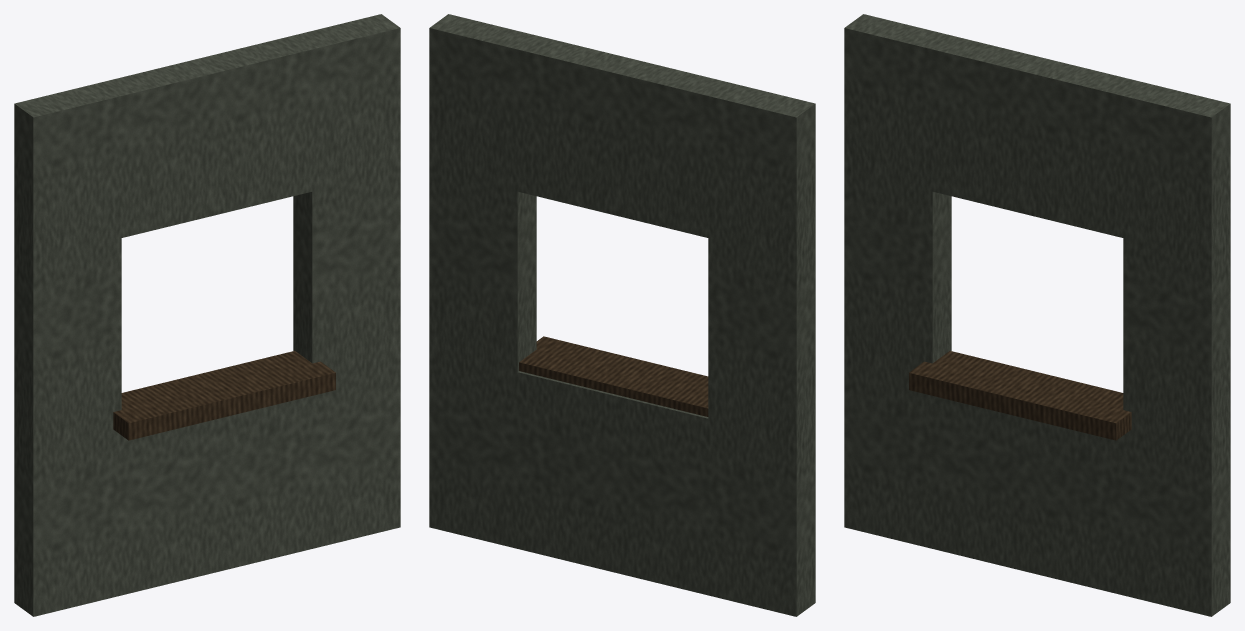
File: Wall_Window_2m.glb
3 views of the same model, side by side, from view 1: azimuth 30°, elevation 25°; view 2: azimuth 150°, elevation 25°; view 3: azimuth 330°, elevation 25° (orthographic).
Visible parts, largest first — view 1: Wall_Window_2m; view 2: Wall_Window_2m; view 3: Wall_Window_2m.
Part boxes in pixels (left/top/right/bottom): Wall_Window_2m: left=14, top=14, right=400, bottom=616; Wall_Window_2m: left=429, top=14, right=815, bottom=616; Wall_Window_2m: left=844, top=14, right=1230, bottom=616.
Size of the model in its own units: 2 by 2.6 by 0.325.
2 materials, 2 textured.
